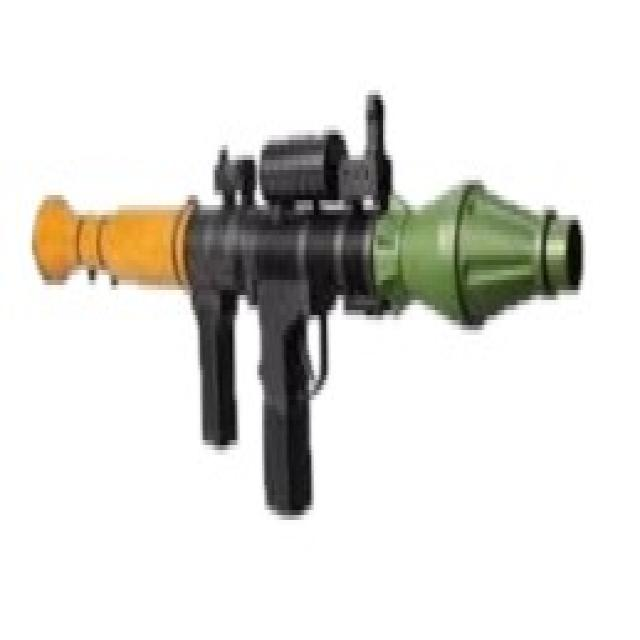bazooka: (31, 67, 587, 529)
